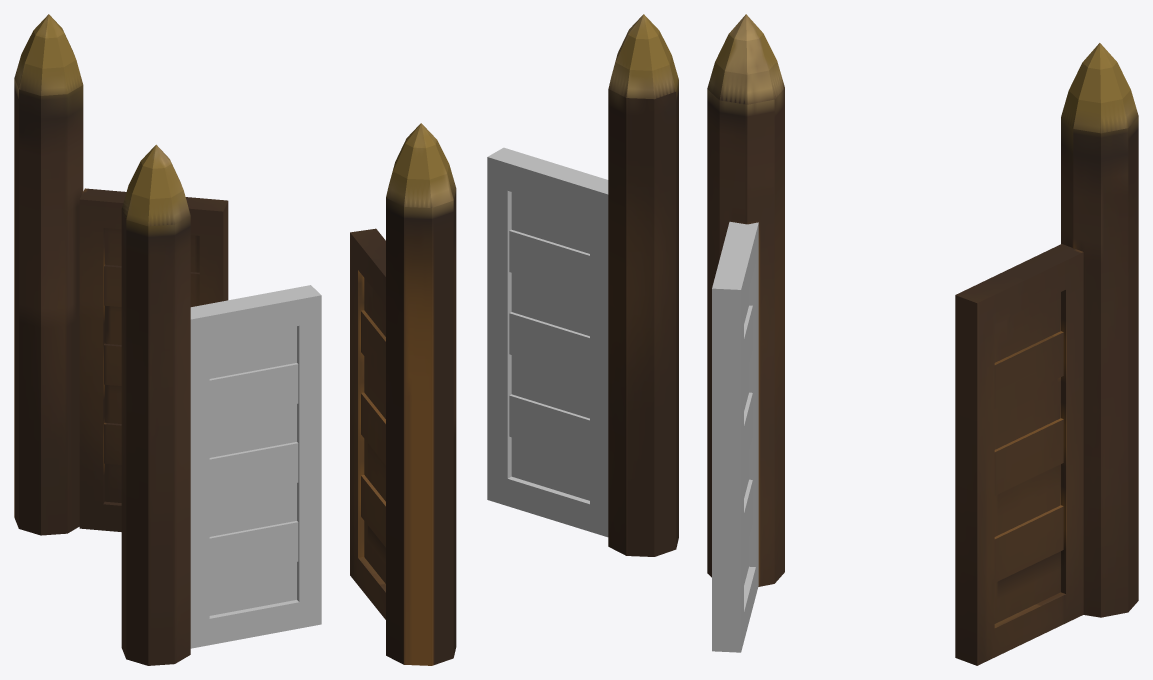
The model's file is gate.fbx.
The picture shows the model from 3 angles, left to right: view 1: azimuth 30°, elevation 25°; view 2: azimuth 150°, elevation 25°; view 3: azimuth 270°, elevation 25°; orthographic projection. The views are drawn at different scales.
Parts seen in each view (by area): view 1: Cylinder.002; view 2: Cylinder.002; view 3: Cylinder.002.
Boxes of the visible parts, x1=… form: Cylinder.002: x1=14, y1=14, x2=321, y2=665; Cylinder.002: x1=350, y1=14, x2=678, y2=665; Cylinder.002: x1=707, y1=14, x2=1138, y2=665.
Size of the model in its own units: 305 by 710 by 497.
